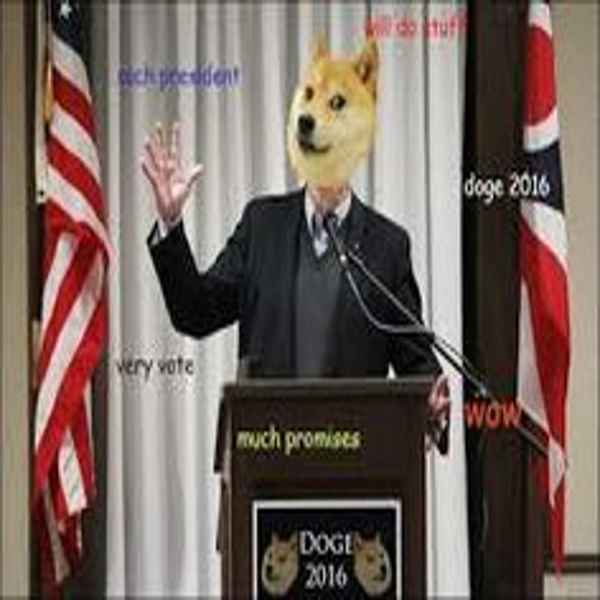doge: (281, 39, 387, 184)
